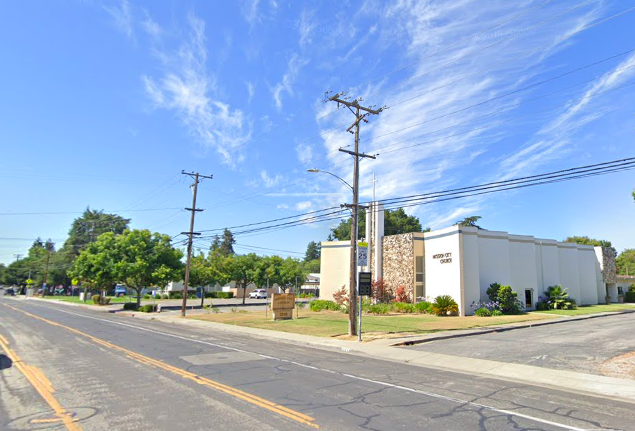tree: (66, 229, 186, 311)
utility_pole: (319, 78, 387, 169), (174, 159, 216, 199)
